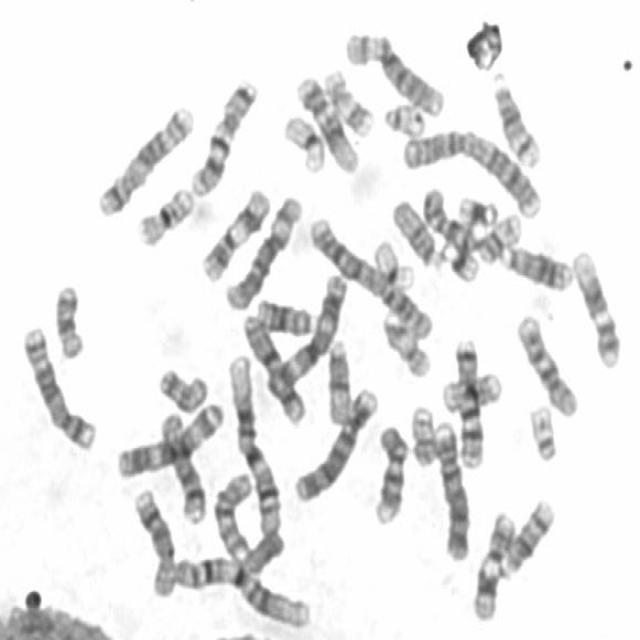A1: (168, 547, 314, 631), (224, 348, 285, 536)
A2: (303, 207, 436, 341), (396, 118, 546, 220)
A3: (261, 266, 350, 400), (112, 394, 227, 480)
B4: (289, 378, 381, 505), (429, 412, 474, 563)
B5: (93, 96, 196, 218), (18, 317, 99, 452)
C10: (511, 305, 582, 419), (208, 462, 257, 562)
C11: (196, 179, 273, 284), (467, 503, 519, 623)
C12: (291, 67, 361, 174), (568, 242, 624, 370)
C6: (220, 186, 305, 311), (340, 22, 448, 116)
C7: (185, 71, 260, 198), (448, 329, 487, 470)
C8: (156, 404, 210, 524), (128, 480, 178, 598)
C9: (419, 184, 489, 264), (369, 416, 412, 527)
D13: (495, 236, 576, 292), (252, 290, 316, 338)
D14: (487, 71, 544, 169), (497, 490, 557, 579)
D15: (387, 191, 446, 269), (323, 332, 356, 426)
E16: (132, 177, 196, 249), (437, 362, 506, 415)
E17: (318, 59, 378, 140), (377, 304, 434, 378)
E18: (48, 275, 87, 361), (153, 358, 212, 414)
F19: (278, 104, 328, 174), (368, 230, 417, 291)
F20: (475, 205, 524, 265), (406, 397, 440, 468)
G21: (440, 231, 482, 284), (452, 186, 501, 230)
G22: (524, 396, 562, 464), (378, 93, 428, 138)
X: (237, 304, 308, 426)
